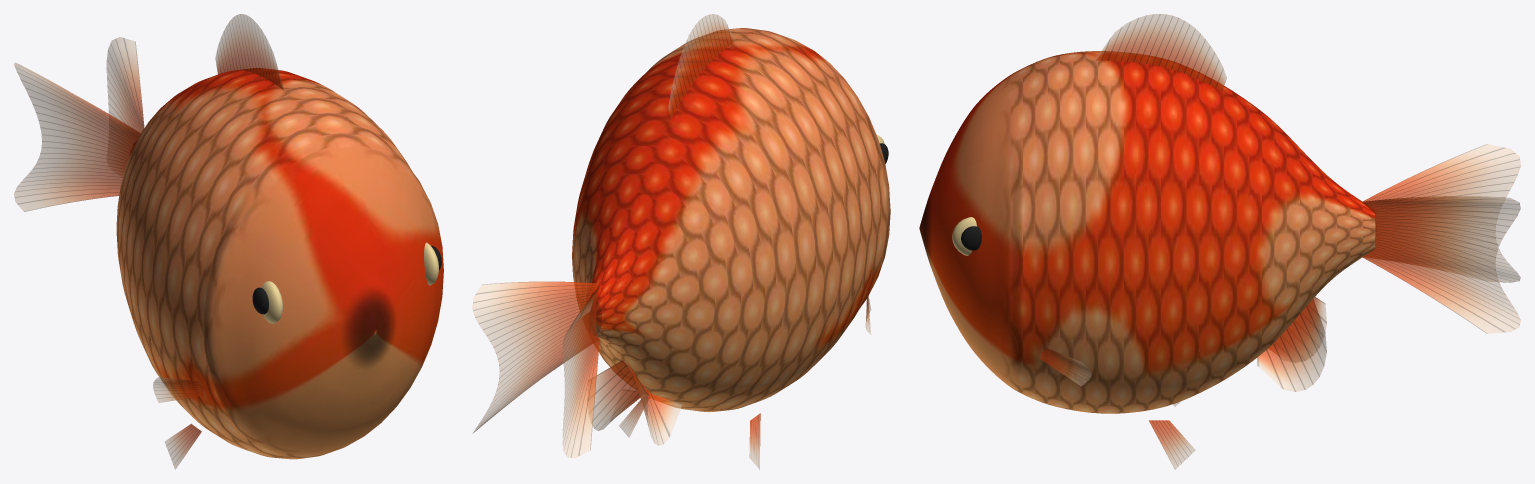
Rendered from pinpon_2.glb.
3 renders of one model, left to right at view 1: azimuth 30°, elevation 25°; view 2: azimuth 150°, elevation 25°; view 3: azimuth 270°, elevation 25°, orthographic. The views are drawn at different scales.
Visible parts, largest first — view 1: body, fins, iris, pupil; view 2: body, fins; view 3: body, fins.
Part boxes in pixels (x1,y1,x2,y2): body: (116, 68, 443, 459); fins: (14, 14, 283, 469); iris: (261, 242, 438, 323); pupil: (252, 245, 441, 314); body: (572, 28, 890, 412); fins: (472, 14, 870, 469); body: (919, 51, 1376, 413); fins: (1040, 14, 1520, 469).
Size of the model in its own units: 0.4282 by 0.6821 by 0.8758.
Materials: 4 (2 with a texture image).
